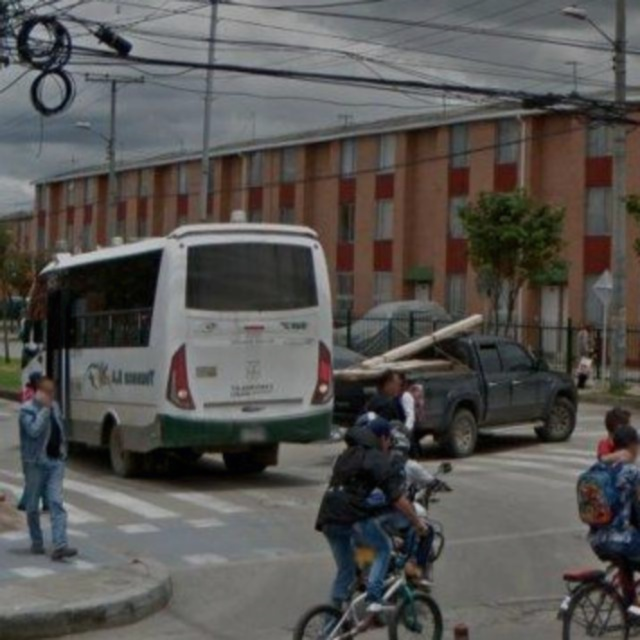bicycle: (297, 525, 475, 640), (516, 553, 632, 637)
bus: (8, 182, 332, 486)
car: (311, 298, 593, 475)
